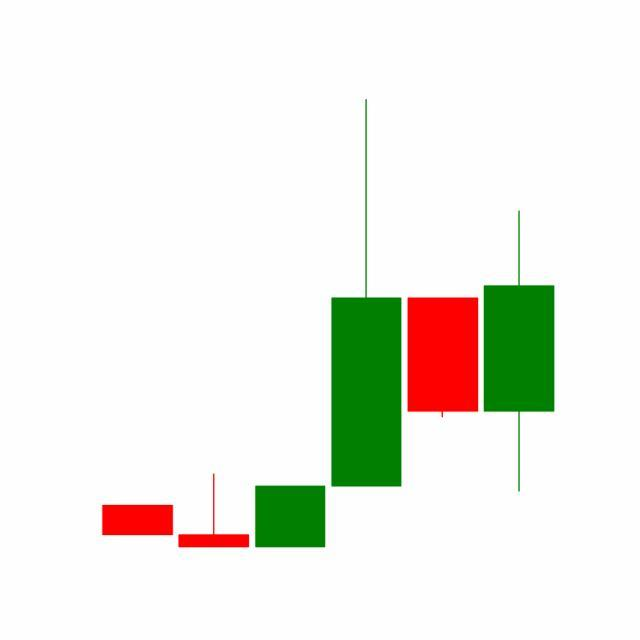Marubozu: (404, 296, 482, 420)
